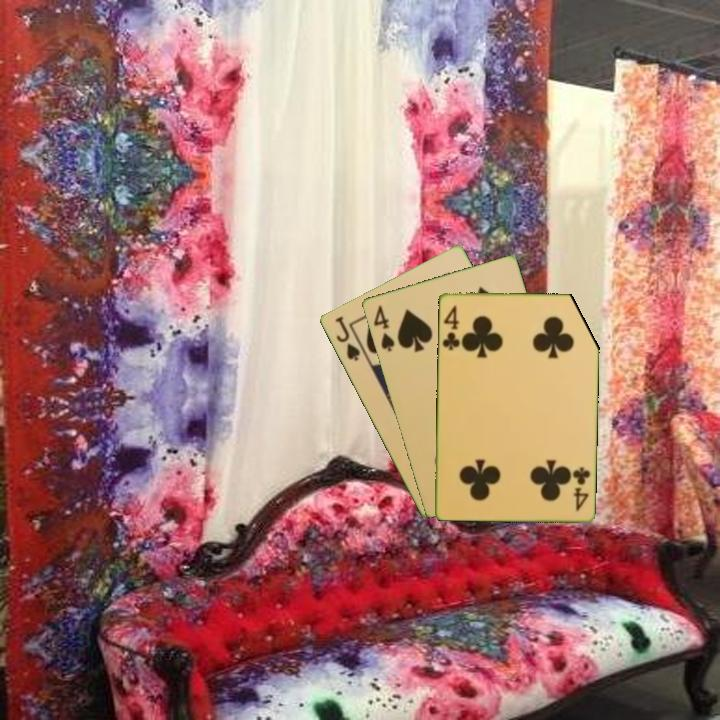4c: (439, 301, 462, 352), (569, 463, 592, 514)
4s: (370, 302, 397, 354)
Js: (331, 312, 363, 364)
